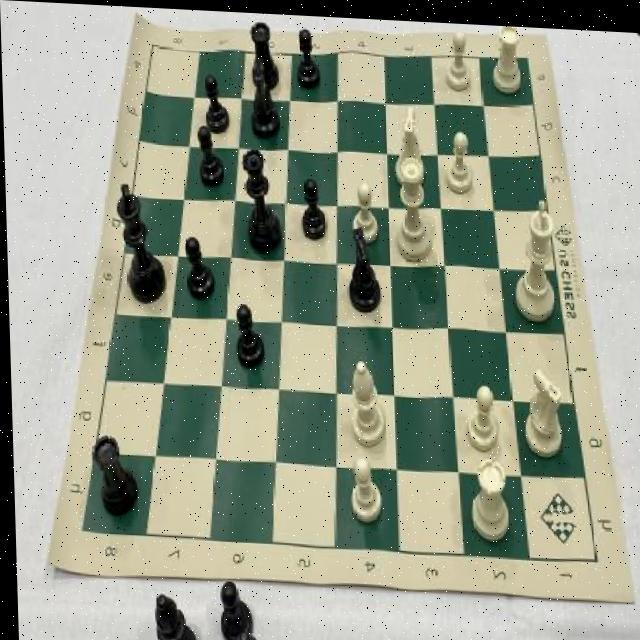black-bishop: (113, 175, 164, 306)
black-king: (338, 221, 384, 313), (250, 55, 280, 139)
black-knight: (181, 230, 216, 303), (231, 299, 262, 369), (194, 120, 226, 187), (296, 173, 328, 240), (292, 20, 323, 88), (202, 68, 232, 131)
black-pawn: (238, 142, 283, 259)
black-queen: (89, 426, 138, 520), (247, 18, 280, 92)
black-rook: (344, 354, 389, 447)
white-bishop: (508, 190, 561, 321)
white-king: (516, 356, 570, 457), (390, 99, 427, 186)
white-knight: (344, 447, 386, 527), (438, 124, 477, 193), (463, 375, 497, 448), (346, 169, 380, 241), (441, 25, 476, 91)
white-pawn: (388, 151, 432, 262)
white-queen: (464, 451, 512, 540), (489, 20, 528, 92)
